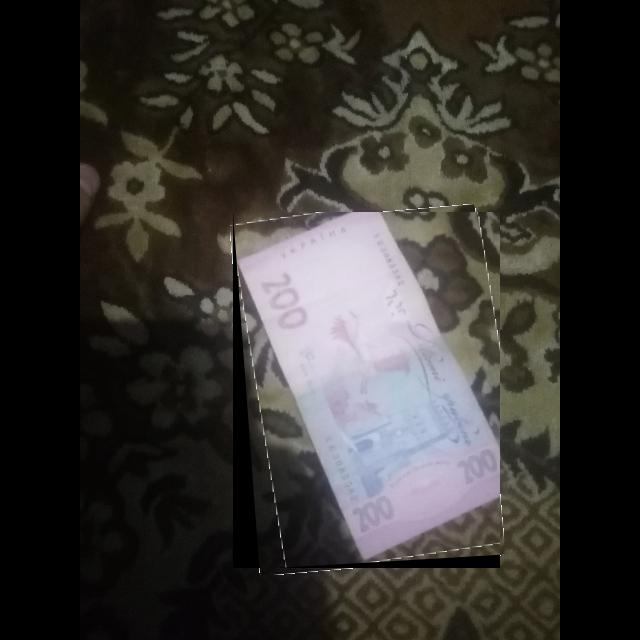200uah: (237, 212, 501, 564)
